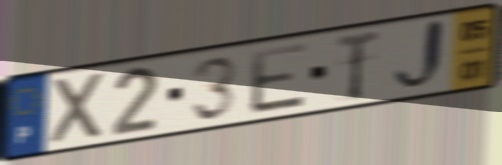2: (110, 63, 165, 140)
3: (190, 55, 238, 122)
E: (248, 39, 311, 117)
J: (391, 14, 448, 97)
T: (334, 27, 383, 105)
X: (49, 69, 110, 150)
